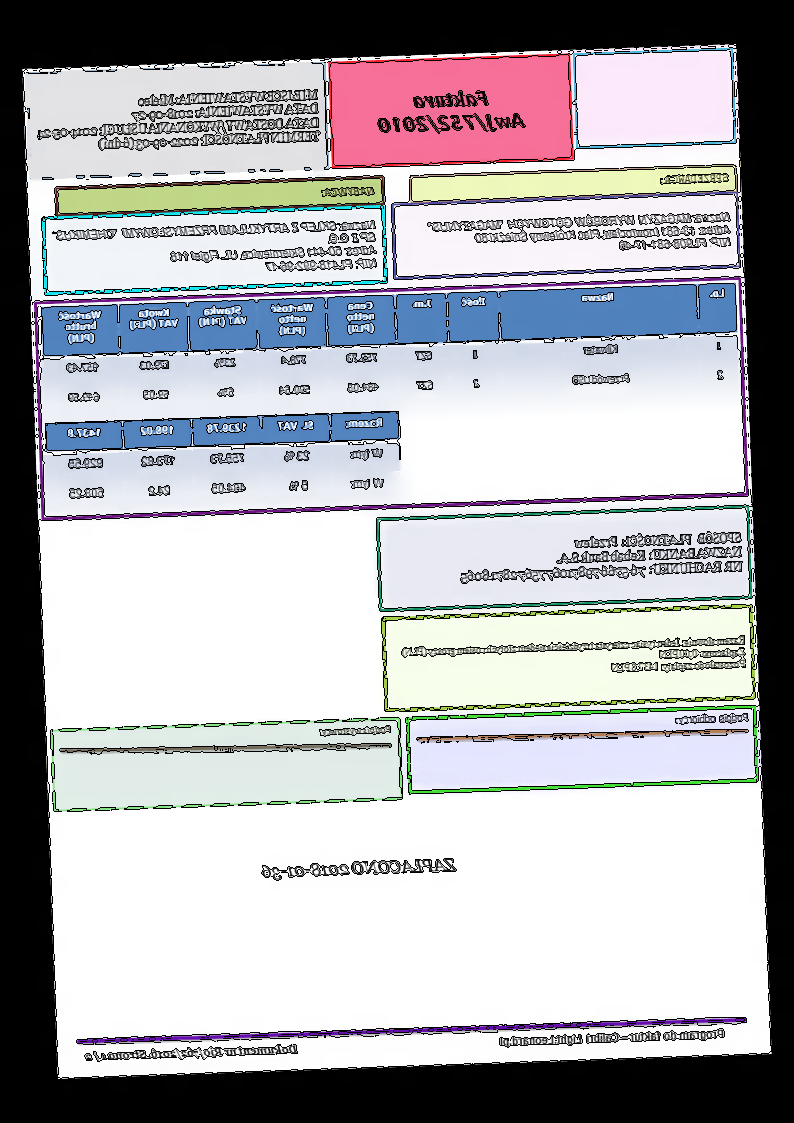Table: (40, 282, 741, 419), (44, 409, 404, 515)
TextBox: (49, 216, 381, 281), (34, 85, 321, 156), (458, 525, 744, 587), (399, 633, 748, 683), (425, 208, 733, 260), (372, 85, 529, 139), (497, 1024, 727, 1050), (256, 853, 460, 882), (83, 1039, 299, 1066), (673, 706, 750, 727), (658, 168, 731, 187), (320, 721, 395, 738), (320, 181, 378, 199)
